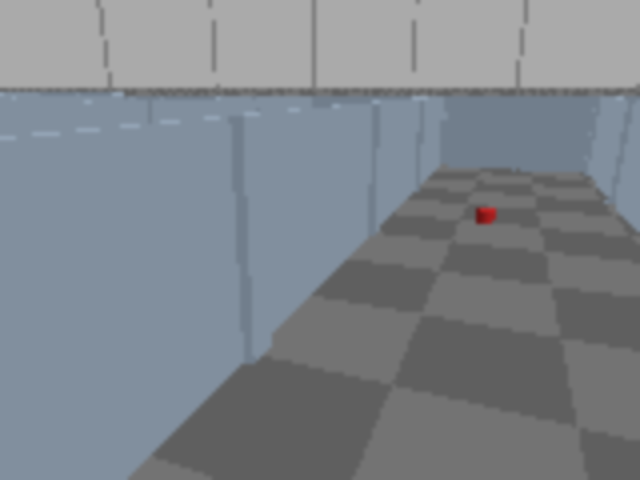puck: (476, 207, 495, 225)
